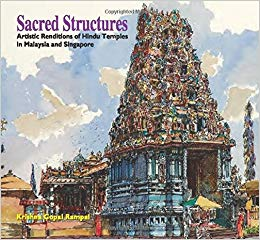Hindu Temple: (122, 5, 229, 219)
